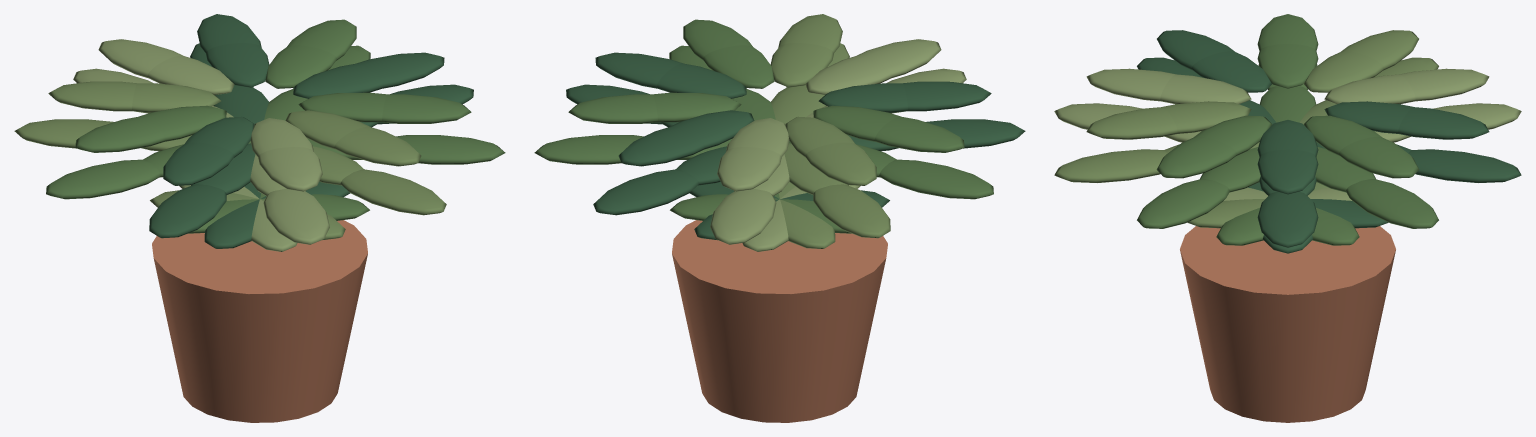
File: fern-planter.glb
The picture shows the model from 3 angles, left to right: view 1: azimuth 30°, elevation 25°; view 2: azimuth 150°, elevation 25°; view 3: azimuth 270°, elevation 25°; orthographic projection.
Parts seen in each view (by area): view 1: fern-planter; view 2: fern-planter; view 3: fern-planter.
Boxes of the visible parts, box(x1,y1,x2,y2) form: fern-planter: box(14, 14, 505, 422); fern-planter: box(534, 14, 1025, 422); fern-planter: box(1054, 14, 1521, 422).
Size of the model in its own units: 1.45 by 0.9581 by 1.38.
